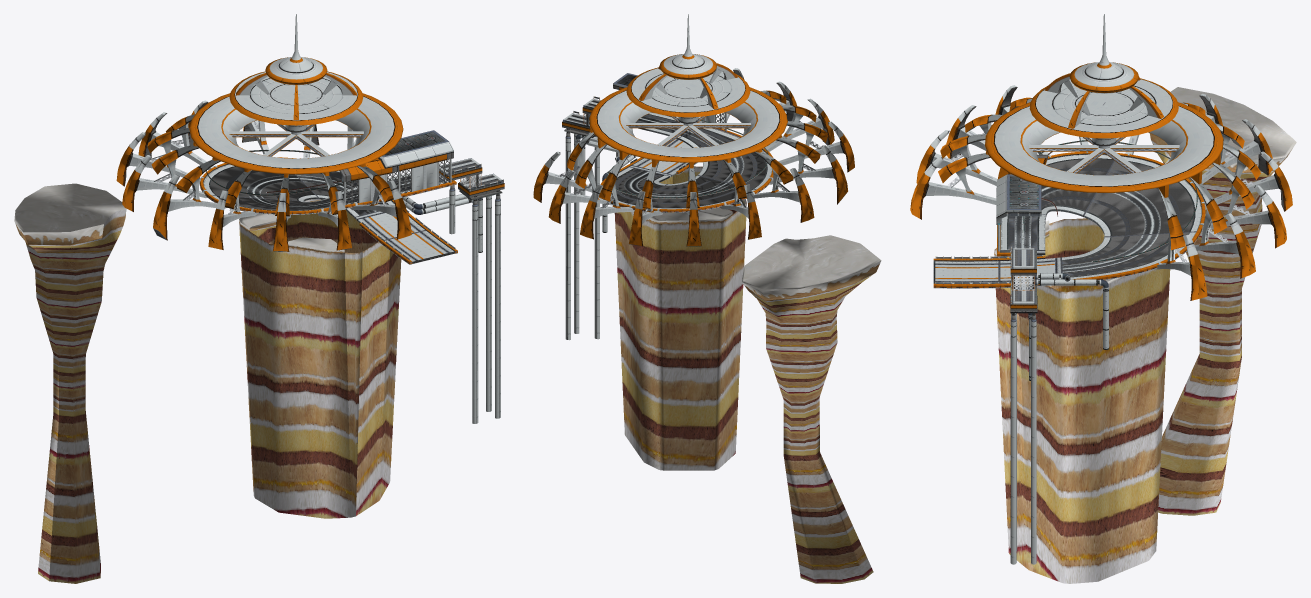
File: stg220_10.obj
3 views of the same model, side by side, from view 1: azimuth 30°, elevation 25°; view 2: azimuth 150°, elevation 25°; view 3: azimuth 270°, elevation 25° (orthographic). The views are drawn at different scales.
Visible parts, largest first — view 1: polygon197, polygon193, polygon214, polygon213, polygon267, polygon192, polygon293, polygon286, polygon288, polygon294, polygon194, polygon284 (+10 smaller); view 2: polygon197, polygon193, polygon192, polygon214, polygon213, polygon267, polygon286, polygon293, polygon288, polygon194, polygon284, polygon285 (+3 smaller); view 3: polygon197, polygon193, polygon214, polygon213, polygon286, polygon288, polygon293, polygon267, polygon192, polygon284, polygon285, polygon294 (+13 smaller).
Boxes of the visible parts, <box> form: polygon197: <box>239,199,401,518</box>; polygon193: <box>25,209,126,583</box>; polygon214: <box>198,14,394,168</box>; polygon213: <box>189,57,403,177</box>; polygon267: <box>463,177,500,423</box>; polygon192: <box>14,183,126,232</box>; polygon293: <box>235,72,441,258</box>; polygon286: <box>210,166,386,215</box>; polygon288: <box>203,78,443,216</box>; polygon294: <box>200,157,457,264</box>; polygon194: <box>14,214,125,245</box>; polygon284: <box>246,175,410,212</box>; polygon197: <box>614,166,746,470</box>; polygon193: <box>749,273,874,583</box>; polygon192: <box>742,235,881,291</box>; polygon214: <box>597,14,779,156</box>; polygon213: <box>589,54,787,168</box>; polygon267: <box>565,116,599,340</box>; polygon286: <box>615,129,766,207</box>; polygon293: <box>631,68,745,171</box>; polygon288: <box>610,73,772,209</box>; polygon194: <box>742,261,880,300</box>; polygon284: <box>624,116,744,197</box>; polygon285: <box>615,114,757,203</box>; polygon197: <box>994,218,1170,583</box>; polygon193: <box>1149,133,1285,515</box>; polygon214: <box>994,14,1213,186</box>; polygon213: <box>985,62,1223,197</box>; polygon286: <box>1041,159,1193,276</box>; polygon288: <box>1000,85,1201,279</box>; polygon293: <box>935,79,1172,278</box>; polygon267: <box>1010,284,1036,564</box>; polygon192: <box>1170,87,1296,162</box>; polygon284: <box>1014,185,1160,272</box>; polygon285: <box>1008,167,1179,275</box>; polygon294: <box>933,151,1205,288</box>.
Size of the model in its own units: 2568 by 3194 by 1890.
45 materials, 45 textured.
